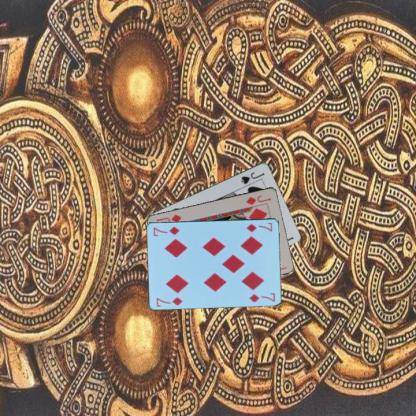7d: (244, 219, 273, 234), (154, 294, 184, 307)
Jd: (244, 192, 272, 206)
Js: (238, 170, 266, 186)
